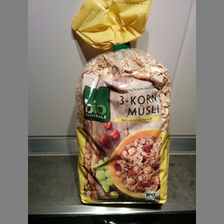cereal: (70, 2, 174, 207)
